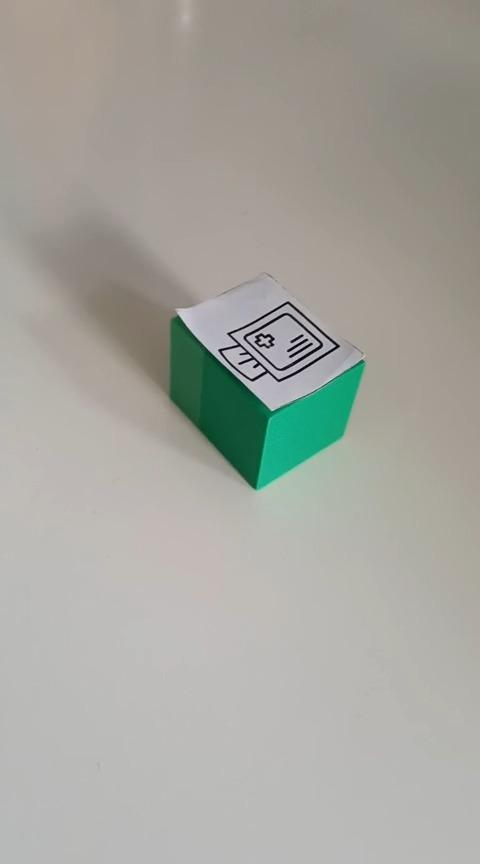Gauze: (167, 270, 366, 490)
